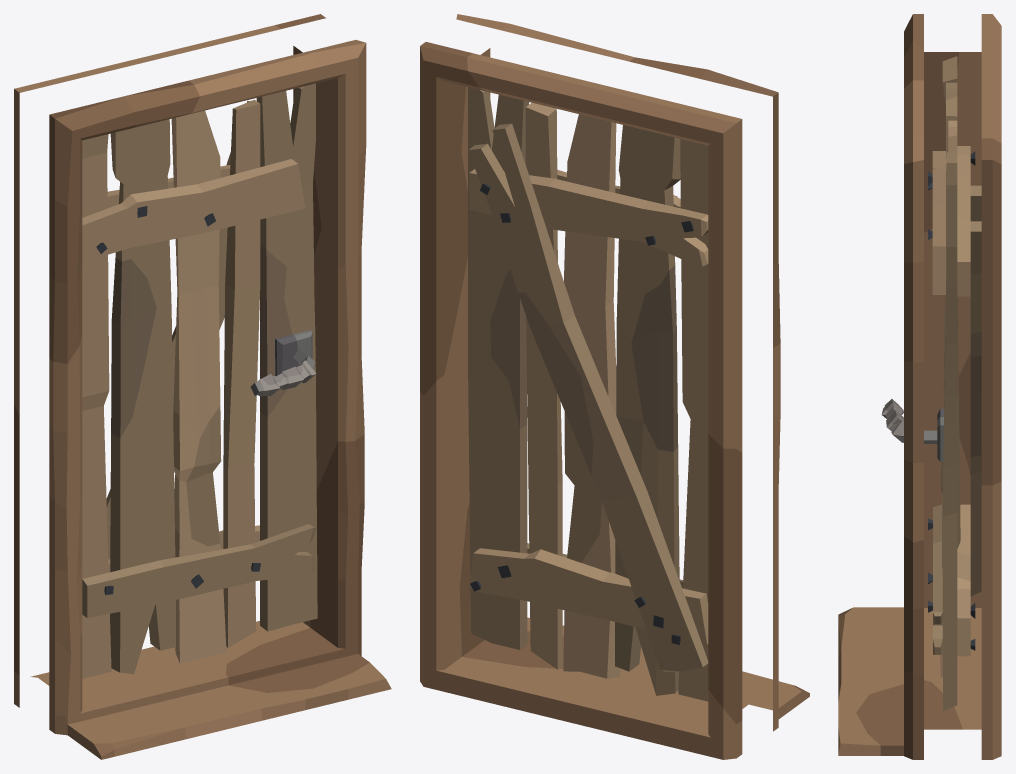
File: SM_Door_C.gltf
3 views of the same model, side by side, from view 1: azimuth 30°, elevation 25°; view 2: azimuth 150°, elevation 25°; view 3: azimuth 270°, elevation 25° (orthographic). The views are drawn at different scales.
Visible parts, largest first — view 1: SM_DoorС, SM_Door_C; view 2: SM_DoorС, SM_Door_C; view 3: SM_Door_C, SM_DoorС.
Boxes of the visible parts, x1,y1,x2,y2 form: SM_DoorС: [82, 83, 317, 678]; SM_Door_C: [14, 14, 391, 759]; SM_DoorС: [468, 87, 708, 701]; SM_Door_C: [420, 14, 809, 759]; SM_Door_C: [838, 14, 1001, 759]; SM_DoorС: [881, 56, 981, 710].
Bounding box in the file's own units: 1.22 × 2.32 × 0.5681.
Materials: 1 (1 with a texture image).
